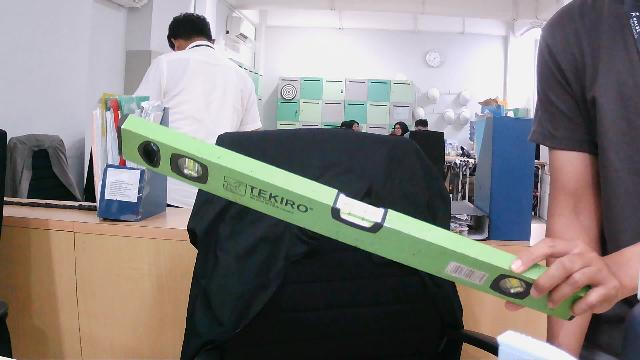water_pass: (111, 107, 593, 324)
